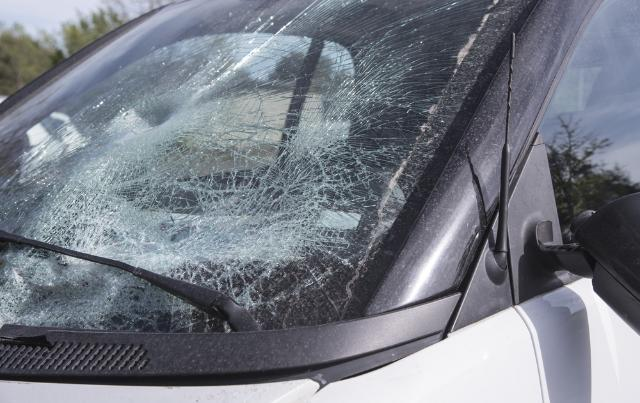glass shatter: (0, 0, 530, 332)
